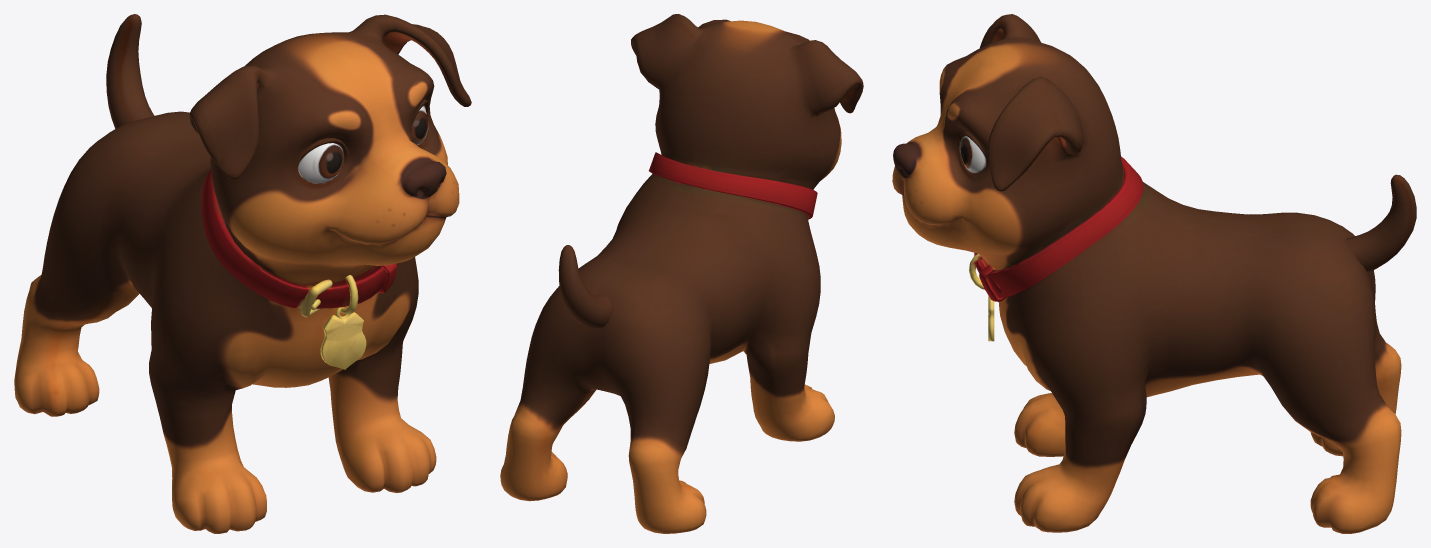
The model's file is character_dog.glb.
3 views of the same model, side by side, from view 1: azimuth 30°, elevation 25°; view 2: azimuth 150°, elevation 25°; view 3: azimuth 270°, elevation 25° (orthographic). The views are drawn at different scales.
Parts seen in each view (by area): view 1: tripo_node_048b3cec-f758-4c2b-bd99-6d6adbbe5727; view 2: tripo_node_048b3cec-f758-4c2b-bd99-6d6adbbe5727; view 3: tripo_node_048b3cec-f758-4c2b-bd99-6d6adbbe5727.
Boxes of the visible parts, bbox=[...] form: tripo_node_048b3cec-f758-4c2b-bd99-6d6adbbe5727: bbox=[14, 14, 471, 533]; tripo_node_048b3cec-f758-4c2b-bd99-6d6adbbe5727: bbox=[500, 14, 863, 533]; tripo_node_048b3cec-f758-4c2b-bd99-6d6adbbe5727: bbox=[892, 14, 1416, 533].
Bounding box in the file's own units: 0.5513 × 0.9106 × 0.9995.
Materials: 1 (1 with a texture image).
